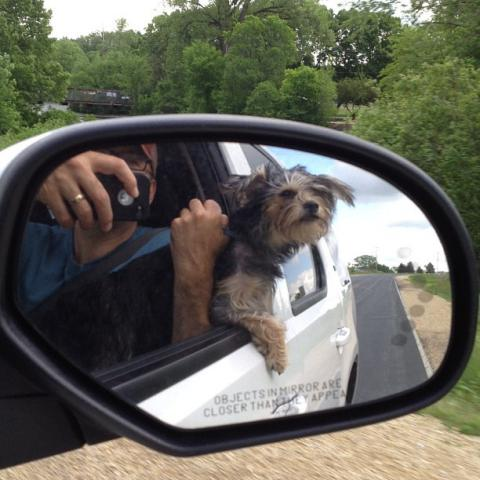car: (102, 142, 359, 430)
